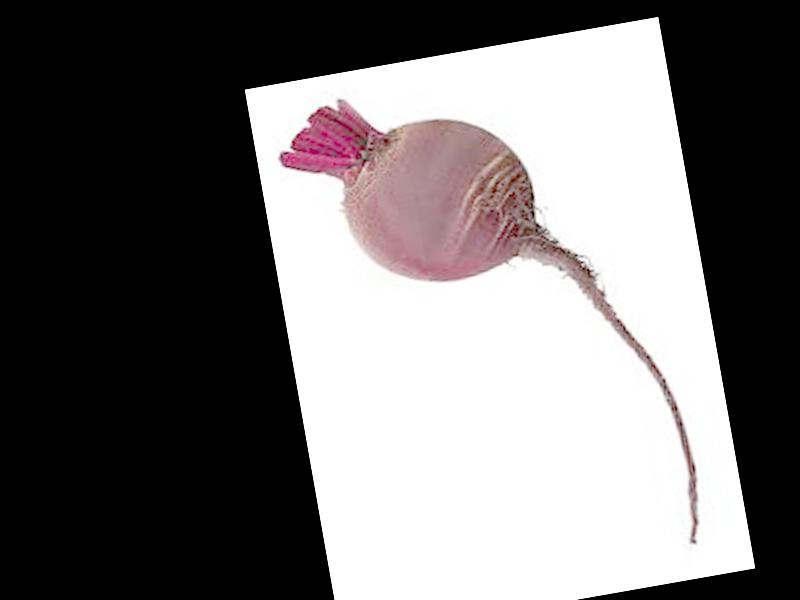Beet: (270, 52, 709, 600)
